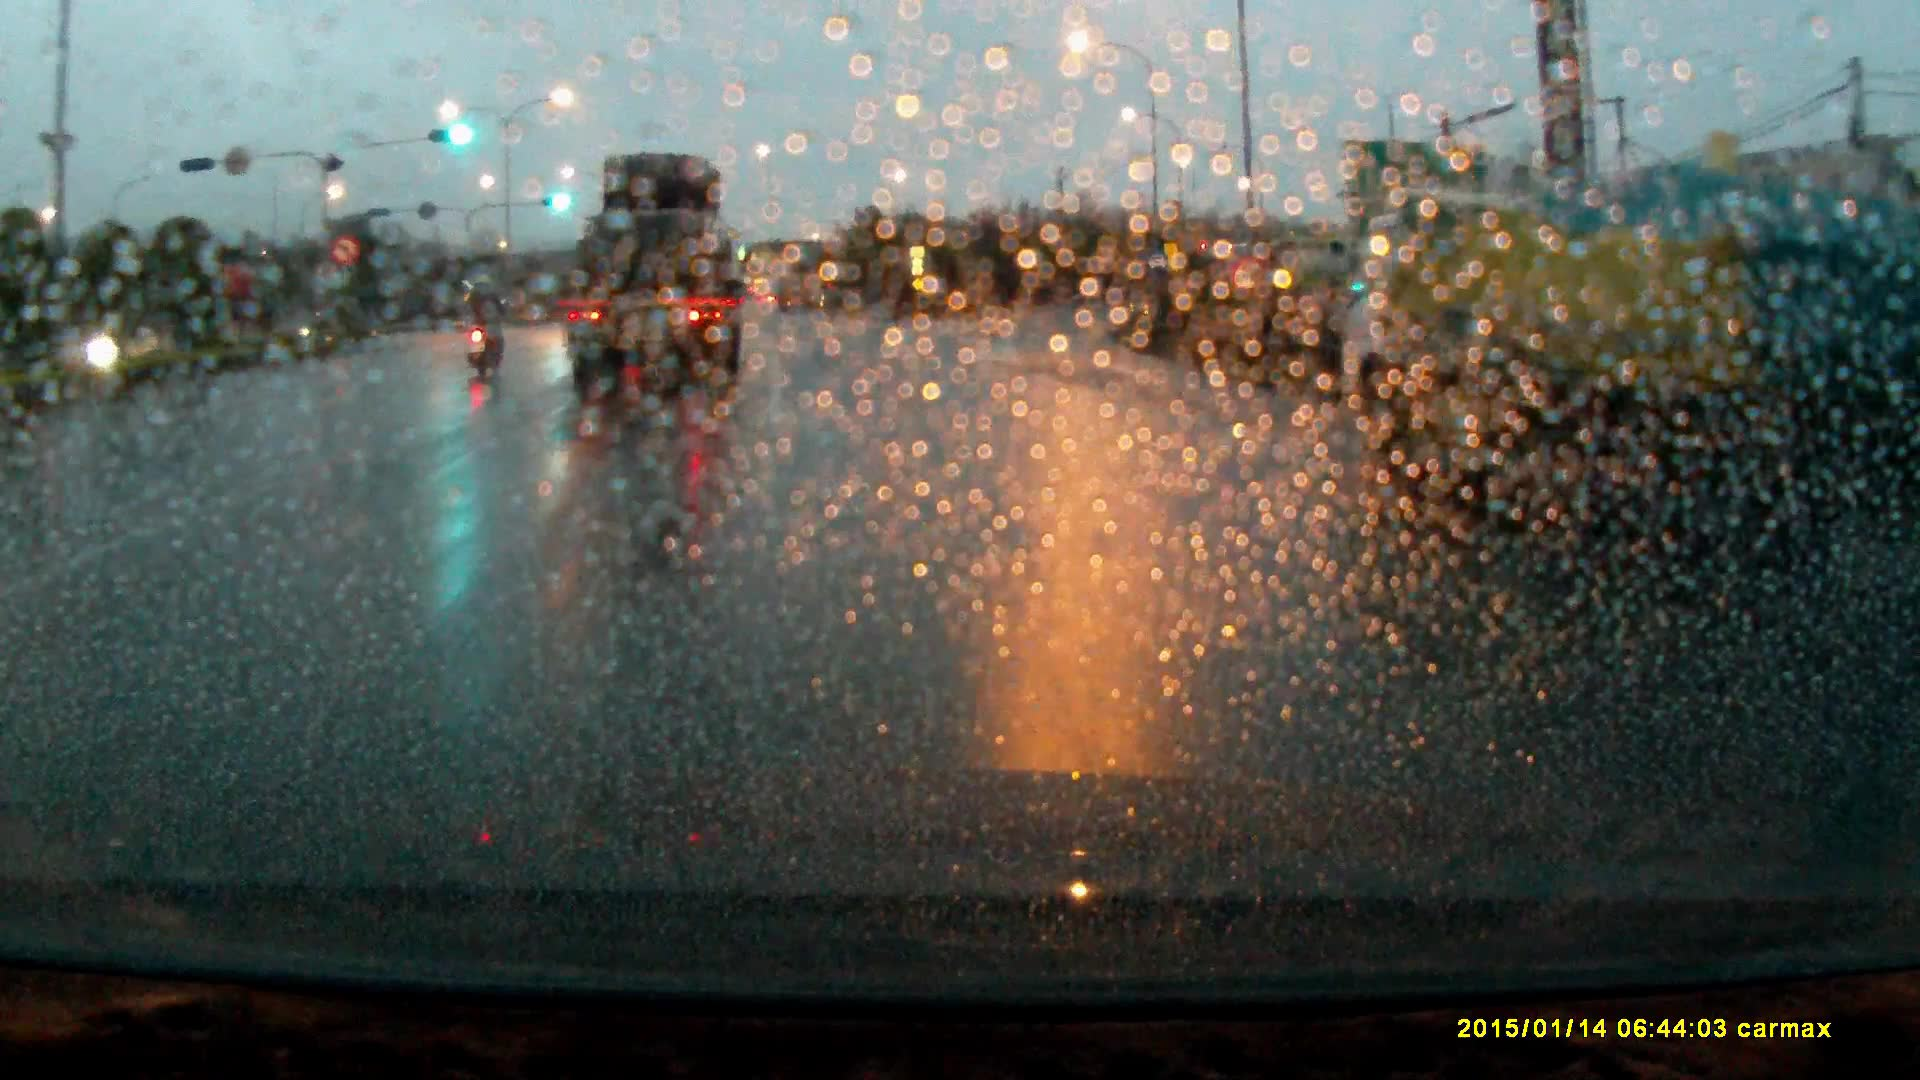rider: (461, 274, 510, 383)
vehicle: (1331, 178, 1920, 560), (561, 153, 746, 404)
